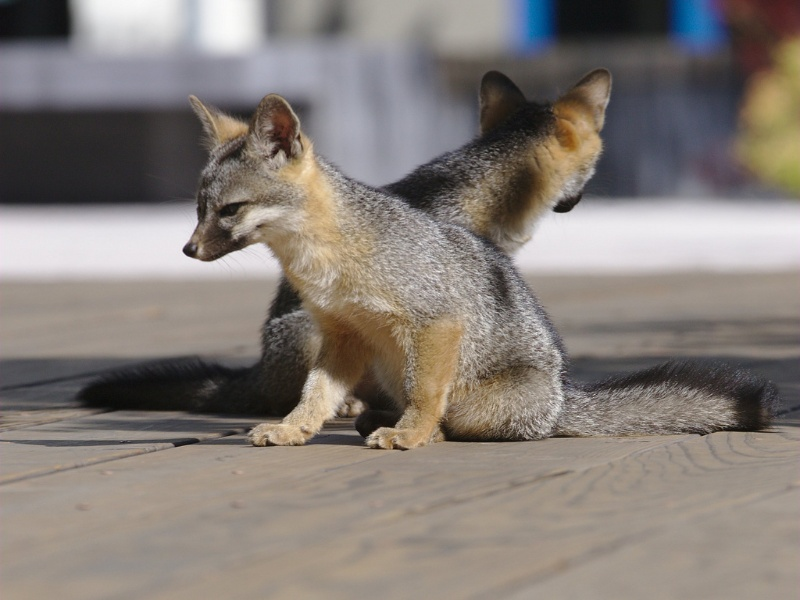fox: (175, 101, 789, 473), (71, 60, 619, 419)
